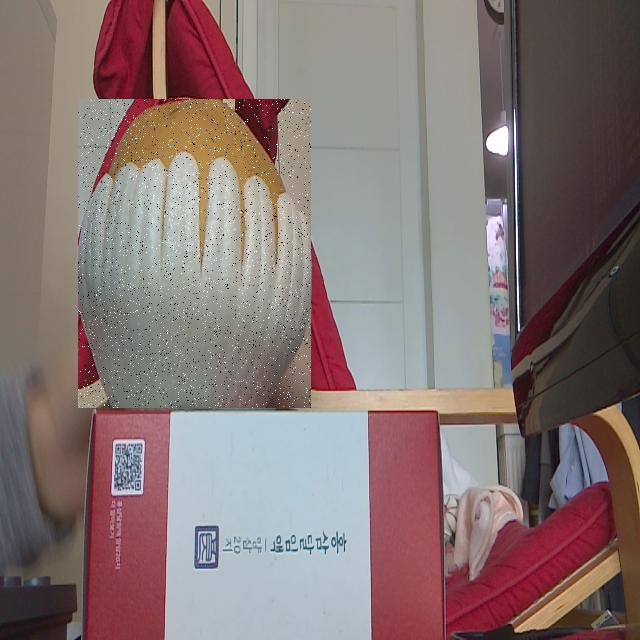pear: (78, 99, 311, 408)
